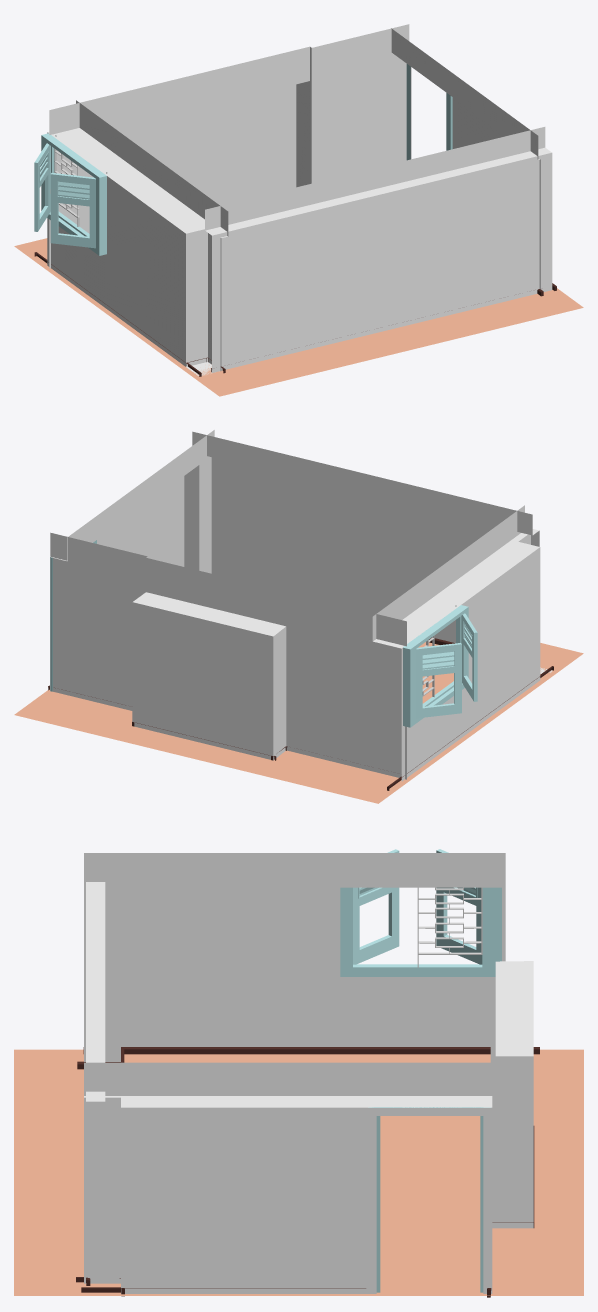
File: room.glb
3 renders of one model, top to bottom at view 1: azimuth 30°, elevation 25°; view 2: azimuth 150°, elevation 25°; view 3: azimuth 270°, elevation 25°, orthographic. The views are drawn at different scales.
Parts seen in each view (by area): view 1: wall_l, wall_r, wall_b, wooden_floor, wall_f, windows.001, windows_frame, windows, door_frame; view 2: wall_r, wall_l, wall_b, wooden_floor, wall_f, windows, windows_frame, windows.001; view 3: wall_f, wall_b, wooden_floor, wall_r, windows_frame, wall_l, wooden_cover_b_3, windows.001, windows, door_frame, Plane.
Boxes of the visible parts, box(x1,y1,x2,y2) form: wall_l: box(205, 127, 552, 372); wall_r: box(49, 24, 409, 268); wall_b: box(47, 100, 228, 375); wooden_floor: box(14, 238, 583, 396); wall_f: box(391, 28, 540, 289); windows.001: box(50, 173, 95, 248); windows_frame: box(41, 133, 106, 255); windows: box(34, 143, 50, 231); door_frame: box(406, 64, 452, 160); wall_r: box(50, 532, 406, 779); wall_l: box(192, 431, 539, 643); wall_b: box(372, 505, 552, 781); wooden_floor: box(14, 642, 583, 803); wall_f: box(50, 430, 214, 691); windows: box(416, 643, 461, 718); windows_frame: box(403, 605, 468, 727); windows.001: box(461, 613, 477, 701); wall_f: box(84, 1062, 492, 1293); wall_b: box(84, 853, 505, 1061); wooden_floor: box(14, 1049, 583, 1295); wall_r: box(490, 961, 533, 1228); windows_frame: box(340, 887, 501, 976); wall_l: box(86, 882, 105, 1101); wooden_cover_b_3: box(83, 1047, 539, 1054); windows.001: box(353, 849, 399, 964); windows: box(436, 849, 482, 964); door_frame: box(368, 1107, 490, 1292); Plane: box(417, 887, 482, 967).
Size of the model in its own units: 4.9 by 1.87 by 4.31.
